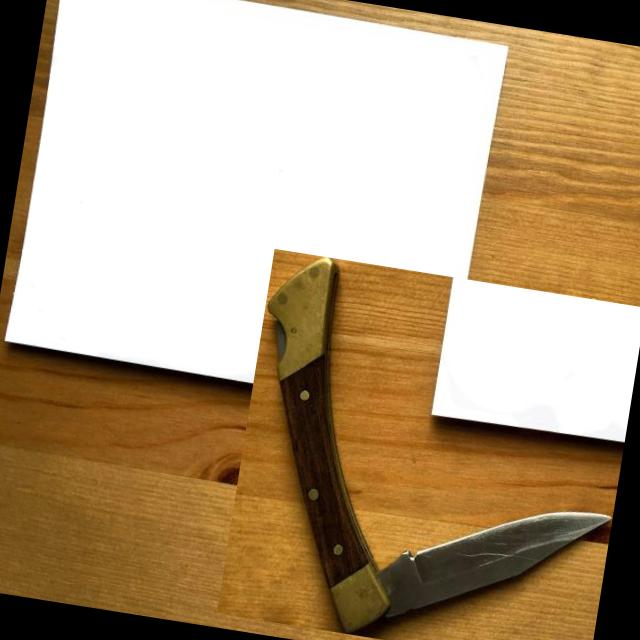Knife: (266, 257, 612, 634)
